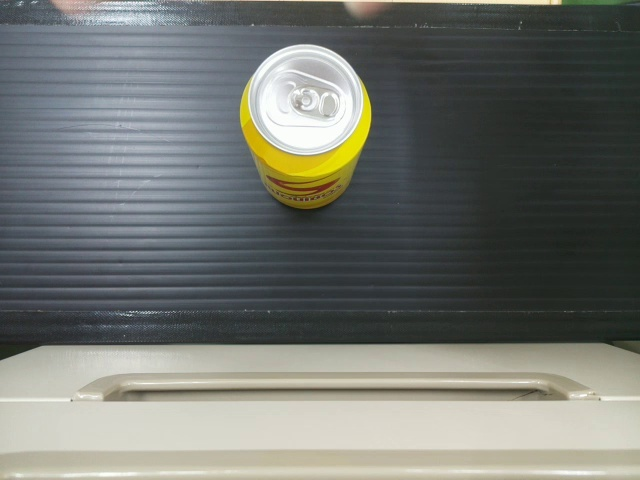can: (236, 44, 371, 209)
